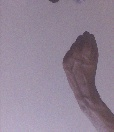hand: (60, 30, 100, 91)
